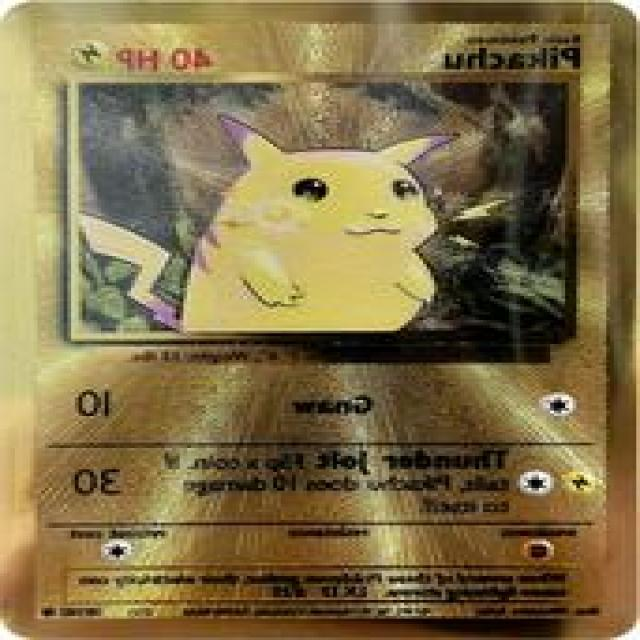Pikachu: (64, 109, 486, 354)
